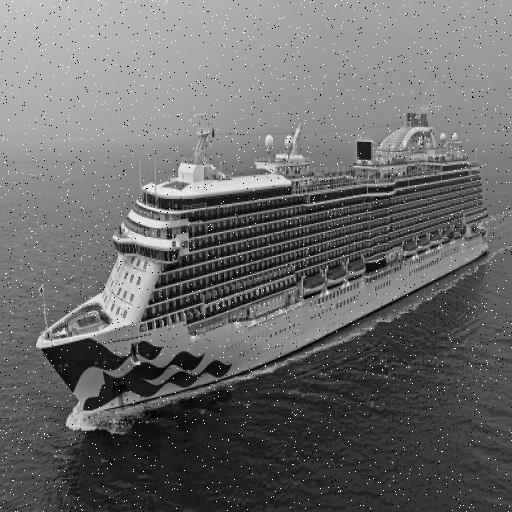cruises: (29, 85, 494, 410)
